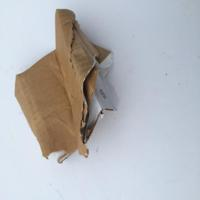paper: (13, 7, 119, 164)
